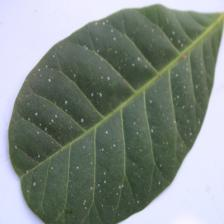red rust: (7, 3, 224, 223)
